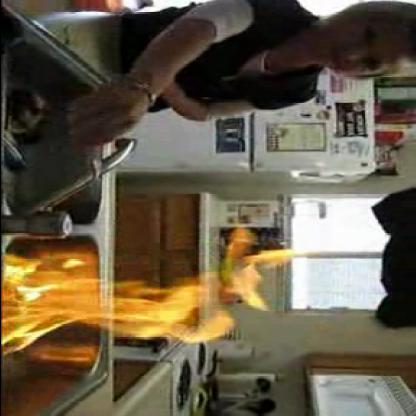Fire: (4, 258, 288, 340)
